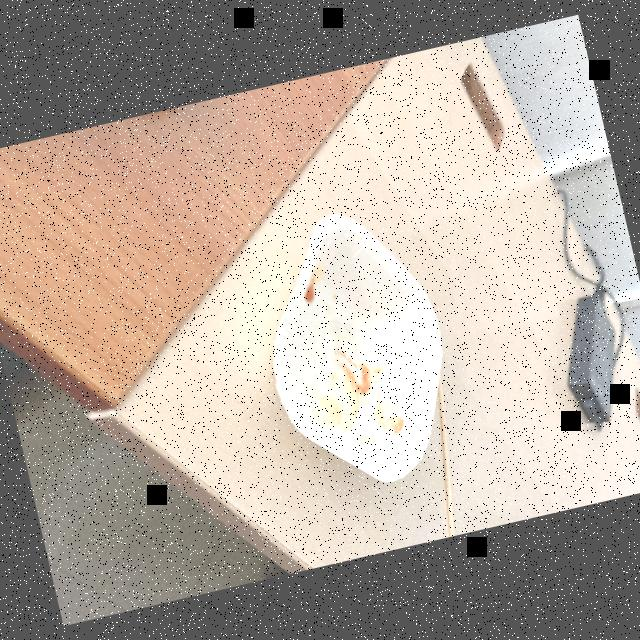cardboard_bowl: (236, 197, 470, 503)
stick: (410, 386, 480, 538)
